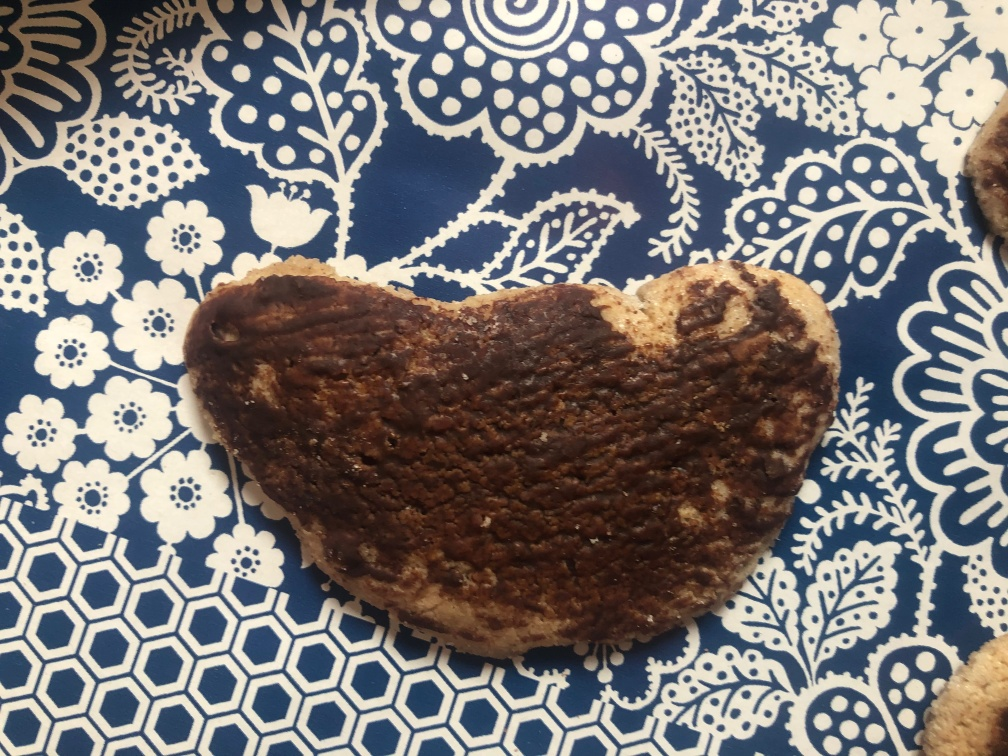weird #1: (176, 249, 848, 666)
